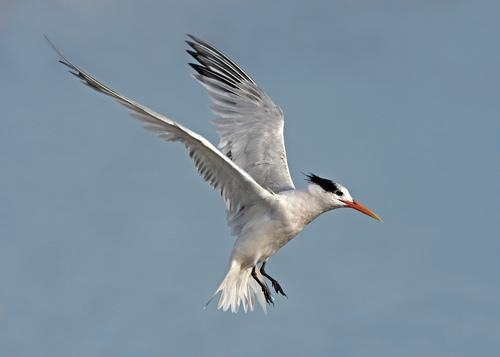bird: (52, 31, 385, 313)
